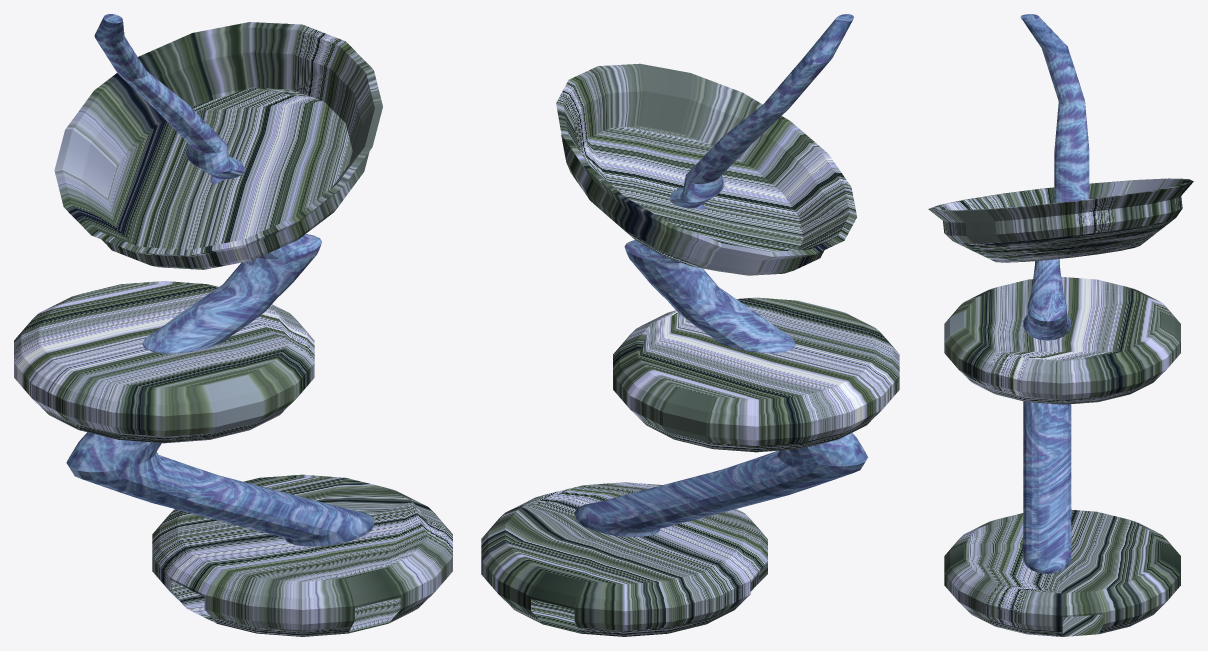
The model's file is Tower2Textured.FBX.
The picture shows the model from 3 angles, left to right: view 1: azimuth 30°, elevation 25°; view 2: azimuth 150°, elevation 25°; view 3: azimuth 270°, elevation 25°; orthographic projection. The views are drawn at different scales.
Parts seen in each view (by area): view 1: Cylinder001, Cylinder002; view 2: Cylinder001, Cylinder002; view 3: Cylinder001, Cylinder002.
Part boxes in pixels (box(x1,y1,x2,y2)): Cylinder001: box(14, 22, 452, 636); Cylinder002: box(66, 14, 373, 546); Cylinder001: box(481, 63, 899, 636); Cylinder002: box(575, 14, 868, 536); Cylinder001: box(928, 178, 1193, 636); Cylinder002: box(1020, 14, 1089, 573).
Bounding box in the file's own units: 529 × 788 × 384.
2 materials, 2 textured.
